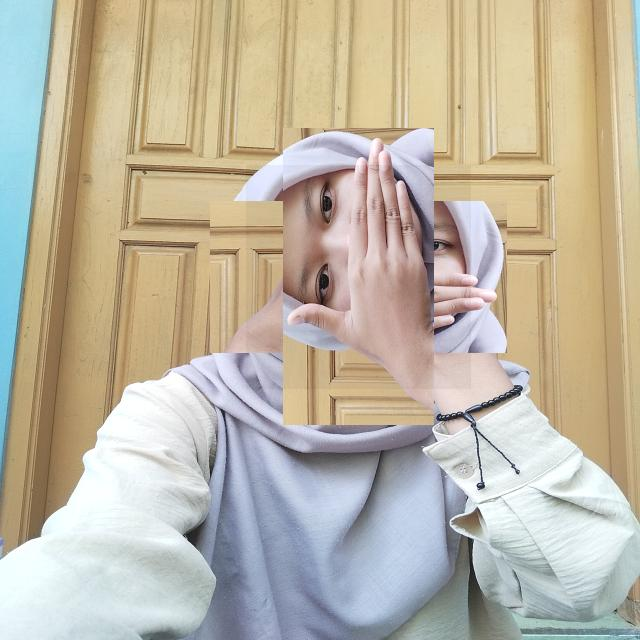buruk: (246, 165, 471, 389)
